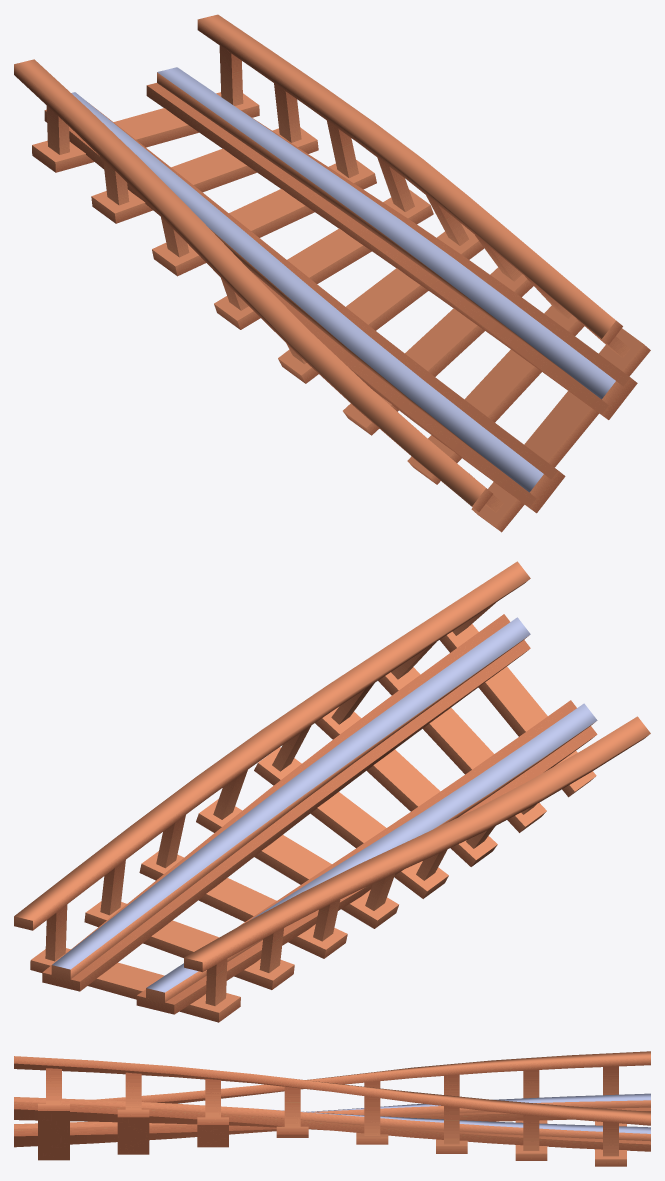
The model's file is coaster-wood-straight-skew-right.glb.
3 views of the same model, one above another, from view 1: azimuth 30°, elevation 25°; view 2: azimuth 150°, elevation 25°; view 3: azimuth 270°, elevation 25° (orthographic). The views are drawn at different scales.
Parts seen in each view (by area): view 1: coaster-wood-straight-skew-right; view 2: coaster-wood-straight-skew-right; view 3: coaster-wood-straight-skew-right.
Part boxes in pixels (x1,y1,x2,y2): coaster-wood-straight-skew-right: (14,14,650,532); coaster-wood-straight-skew-right: (14,561,650,1022); coaster-wood-straight-skew-right: (14,1051,650,1166).
Bounding box in the file's own units: 3.26 × 2.83 × 12.
1 material, 1 textured.
